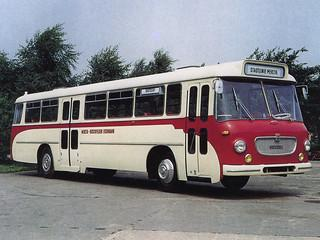bus: (12, 59, 316, 190)
